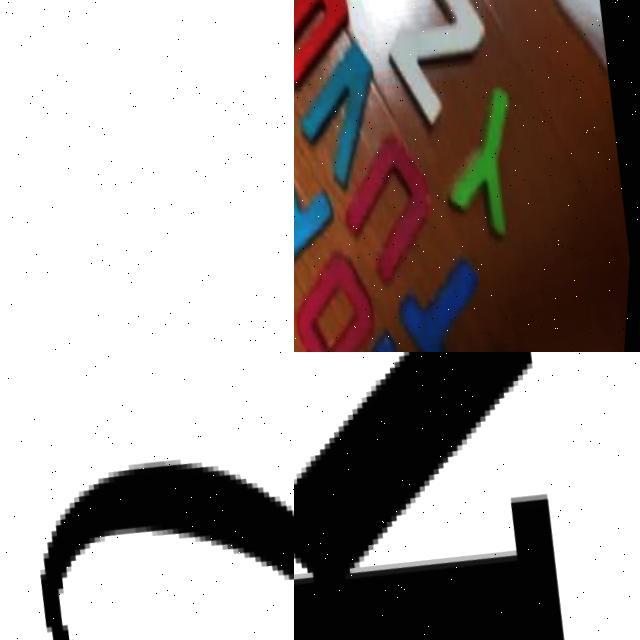5: (0, 352, 294, 640)
J: (0, 241, 294, 352)
K: (294, 352, 602, 640)
N: (330, 319, 441, 352)
O: (294, 242, 389, 352)
P: (294, 159, 343, 263)
T: (390, 245, 498, 352)
U: (331, 119, 450, 280)
V: (294, 33, 398, 176)
W: (294, 0, 356, 84)
Y: (434, 69, 529, 224)
Z: (369, 0, 502, 126)
